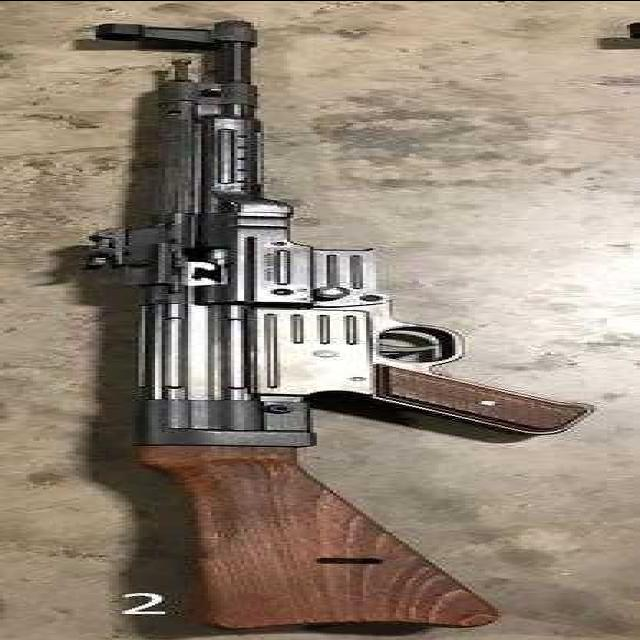heavyweapon: (1, 4, 640, 634)
